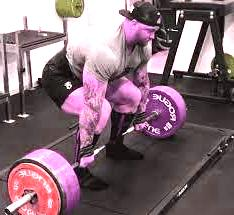Barbell: (1, 206, 11, 215)
